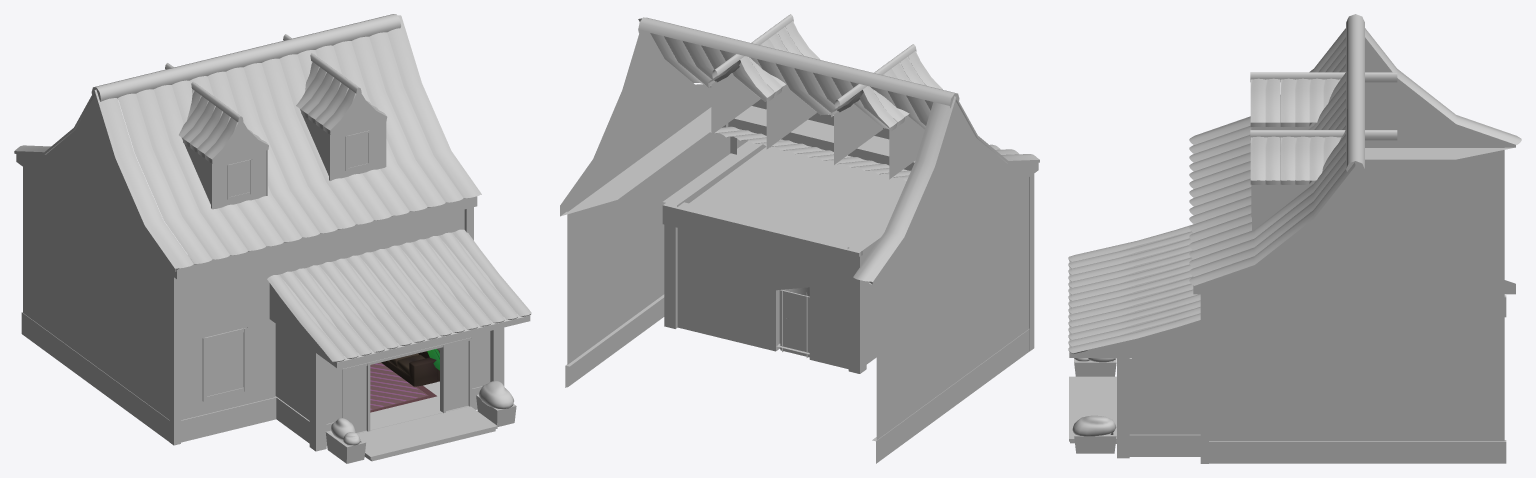
The model's file is Casa.FBX.
3 views of the same model, side by side, from view 1: azimuth 30°, elevation 25°; view 2: azimuth 150°, elevation 25°; view 3: azimuth 270°, elevation 25° (orthographic). The views are drawn at different scales.
Visible parts, largest first — view 1: Box004, Box005, Sofa; view 2: Box004; view 3: Box004.
Boxes of the visible parts, x1,y1,x2,y2 form: Box004: (14, 14, 531, 463); Box005: (370, 349, 439, 412); Sofa: (381, 349, 439, 386); Box004: (560, 14, 1039, 463); Box004: (1068, 14, 1521, 463).
Bounding box in the file's own units: 8.52 × 8.14 × 10.87.
